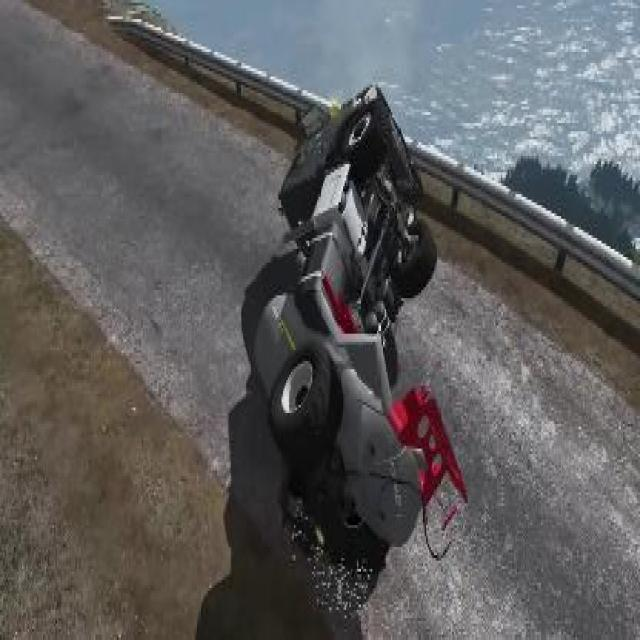accident: (239, 61, 463, 564)
